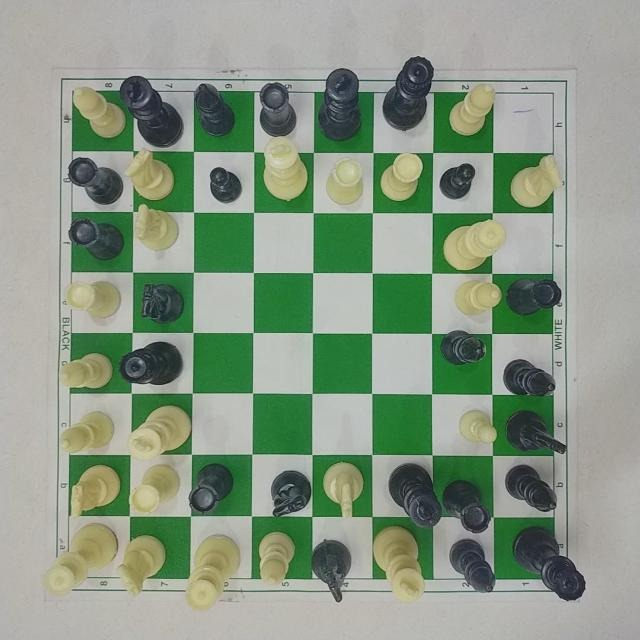black-bishop: (446, 537, 497, 595), (503, 463, 561, 513), (192, 81, 236, 139), (500, 357, 557, 399), (438, 328, 489, 367)
black-king: (118, 74, 186, 150), (386, 460, 444, 530), (315, 66, 365, 143)
black-knight: (503, 407, 569, 456), (309, 537, 353, 604), (268, 468, 313, 520), (139, 281, 187, 327)
black-pawn: (437, 161, 477, 201), (206, 165, 243, 204)
black-queen: (510, 523, 588, 603), (380, 54, 435, 132), (118, 339, 184, 387)
black-rook: (65, 155, 124, 207), (65, 215, 126, 263), (441, 478, 493, 534), (187, 461, 235, 516), (504, 275, 564, 318), (257, 79, 299, 138)
white-bishop: (69, 84, 127, 140), (446, 81, 497, 139), (57, 408, 115, 455), (57, 350, 115, 392), (256, 530, 298, 588), (452, 278, 504, 318)
white-king: (371, 523, 427, 605), (124, 402, 193, 463), (260, 135, 310, 203)
white-knight: (114, 532, 169, 600), (507, 152, 565, 209), (67, 463, 123, 521), (124, 149, 178, 201), (320, 459, 365, 520), (131, 202, 180, 252)
white-pawn: (457, 408, 500, 446)
white-queen: (39, 521, 120, 601), (183, 533, 243, 613), (440, 217, 508, 272)
white-rook: (127, 461, 182, 516), (61, 277, 123, 320), (377, 151, 425, 203), (324, 155, 366, 207)
